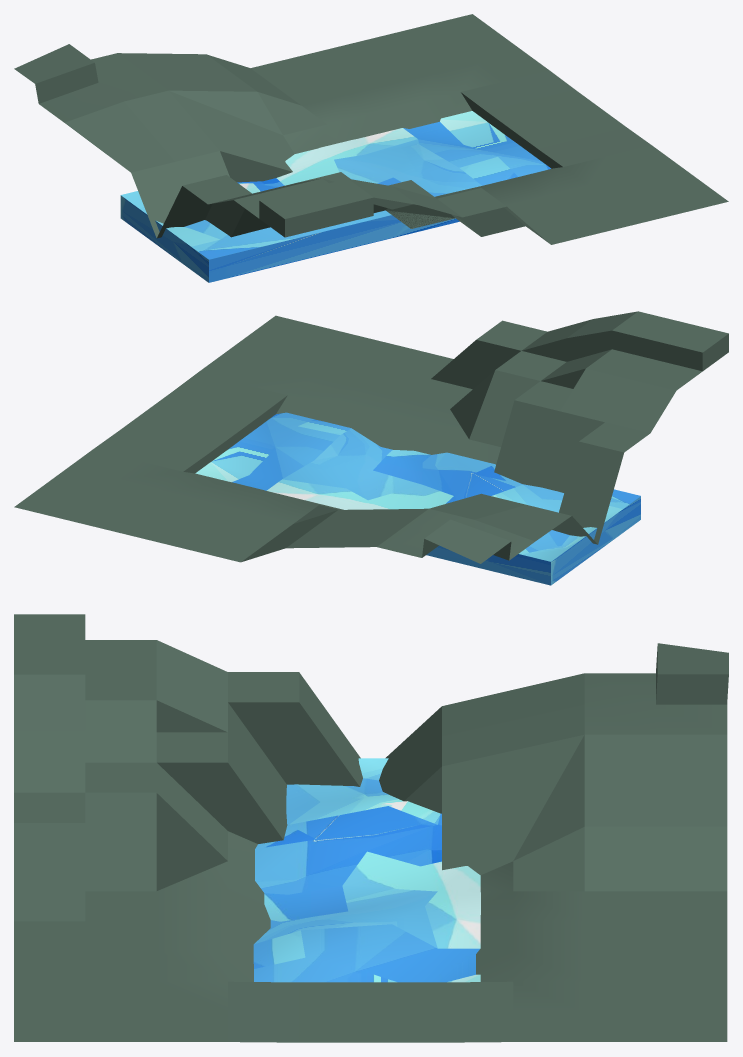
File: MOD_GroundJapanWater.fbx
3 views of the same model, one above another, from view 1: azimuth 30°, elevation 25°; view 2: azimuth 150°, elevation 25°; view 3: azimuth 270°, elevation 25° (orthographic). The views are drawn at different scales.
Visible parts, largest first — view 1: pPlane2; view 2: pPlane2; view 3: pPlane2.
Part boxes in pixels (x1,y1,x2,y2): pPlane2: [14, 14, 728, 282]; pPlane2: [14, 311, 728, 585]; pPlane2: [14, 614, 728, 1042].
Size of the model in its own units: 1041 by 267 by 1003.
